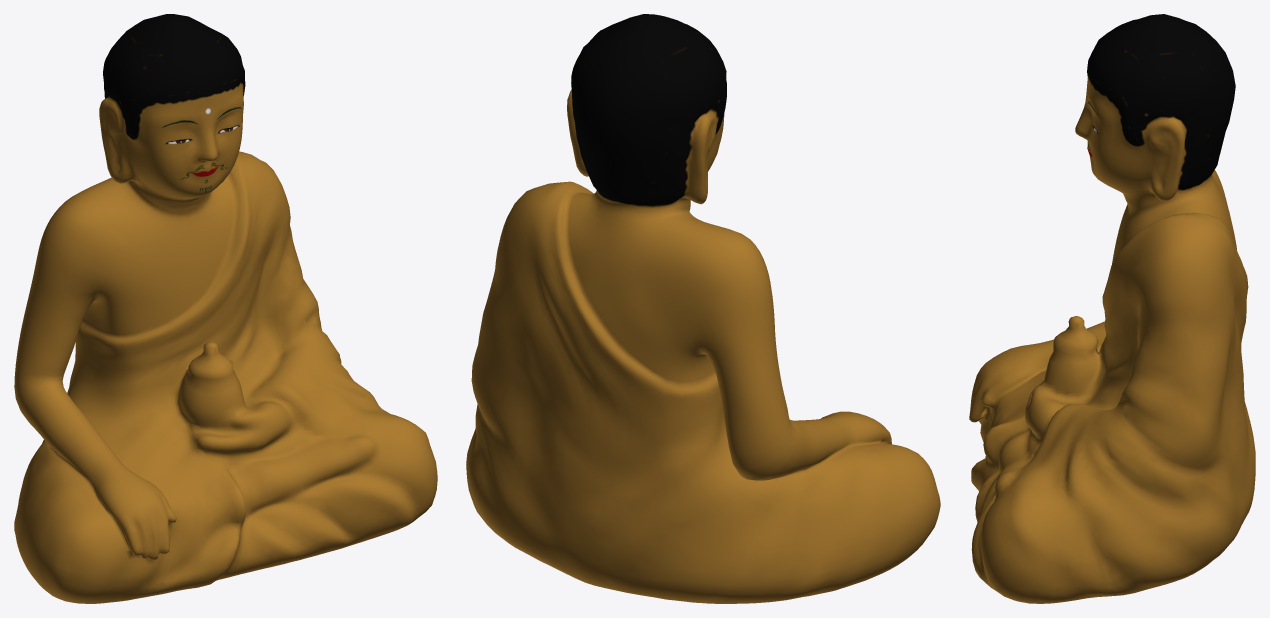
File: Budda_Web3DTest_.FBX
The picture shows the model from 3 angles, left to right: view 1: azimuth 30°, elevation 25°; view 2: azimuth 150°, elevation 25°; view 3: azimuth 270°, elevation 25°; orthographic projection. The views are drawn at different scales.
Parts seen in each view (by area): view 1: Budda_L_02; view 2: Budda_L_02; view 3: Budda_L_02.
Part boxes in pixels (left/top/right/bottom): Budda_L_02: left=14, top=14, right=437, bottom=603; Budda_L_02: left=466, top=14, right=940, bottom=603; Budda_L_02: left=969, top=14, right=1255, bottom=603.
Bounding box in the file's own units: 20.43 × 25.46 × 12.81.
1 material, 1 textured.
